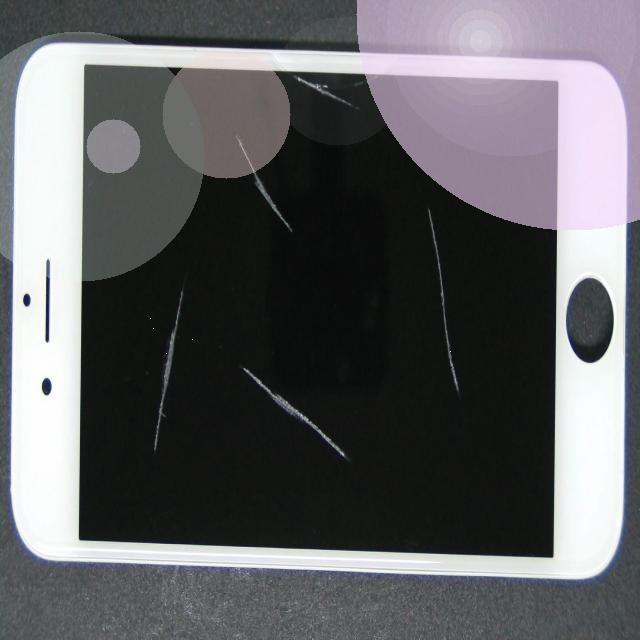scratch: (176, 0, 633, 396), (101, 52, 246, 512)
